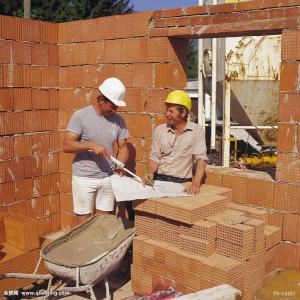white: (96, 78, 129, 118)
yellow: (164, 91, 194, 129)
